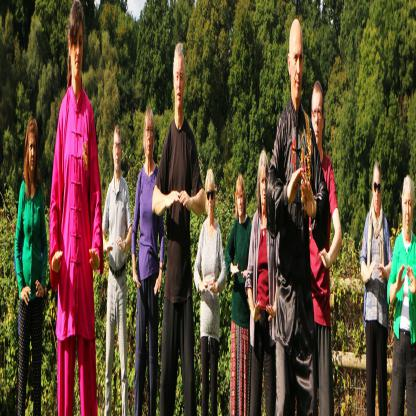face: (68, 1, 87, 100), (289, 16, 305, 112), (24, 119, 42, 204), (173, 41, 187, 121), (311, 80, 326, 153), (402, 174, 416, 243), (258, 148, 271, 215), (145, 103, 157, 171), (205, 166, 218, 227), (113, 123, 124, 184), (372, 159, 383, 220), (236, 173, 248, 224)
human: (266, 14, 332, 416), (50, 5, 106, 416), (152, 40, 207, 416), (298, 78, 344, 416), (132, 104, 166, 416), (15, 116, 50, 416), (245, 147, 282, 416), (103, 123, 134, 416), (361, 158, 395, 416), (194, 166, 228, 416), (225, 173, 255, 416), (388, 173, 416, 416)
